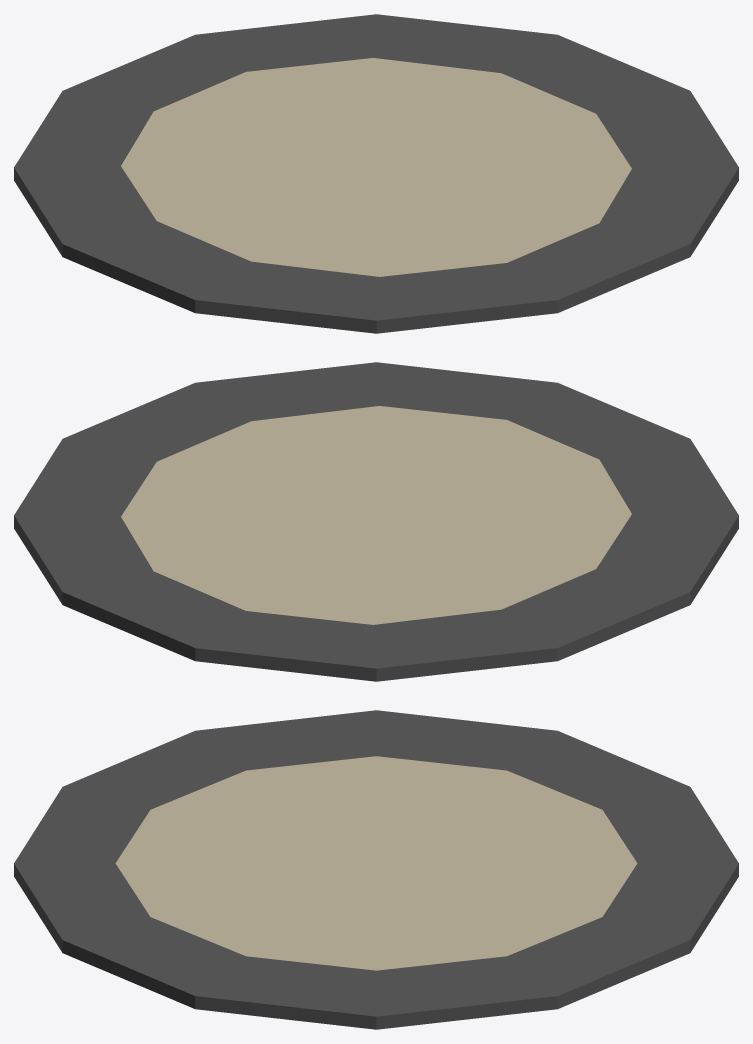
Rendered from Coaster.fbx.
3 views of the same model, one above another, from view 1: azimuth 30°, elevation 25°; view 2: azimuth 150°, elevation 25°; view 3: azimuth 270°, elevation 25° (orthographic).
Visible parts, largest first — view 1: Coaster; view 2: Coaster; view 3: Coaster.
Part boxes in pixels (x1,y1,x2,y2): Coaster: (14, 14, 738, 333); Coaster: (14, 362, 738, 681); Coaster: (14, 710, 738, 1029).
Bounding box in the file's own units: 240 × 4.8 × 240.
